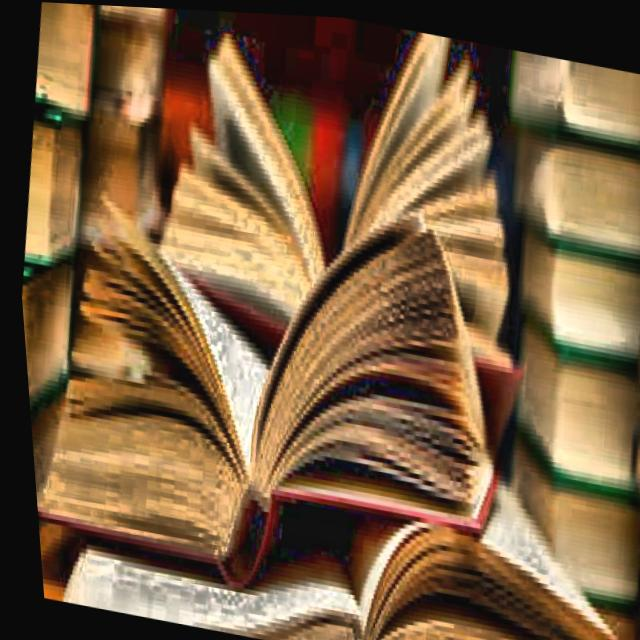Paper: (8, 130, 533, 622), (118, 5, 562, 441), (38, 384, 640, 640), (316, 15, 538, 330), (163, 19, 351, 274), (139, 53, 354, 242), (482, 410, 640, 606), (493, 311, 640, 478), (497, 111, 640, 267), (499, 212, 640, 361), (499, 43, 640, 152), (11, 100, 89, 271), (14, 243, 81, 426), (26, 1, 112, 122), (21, 360, 73, 558)
